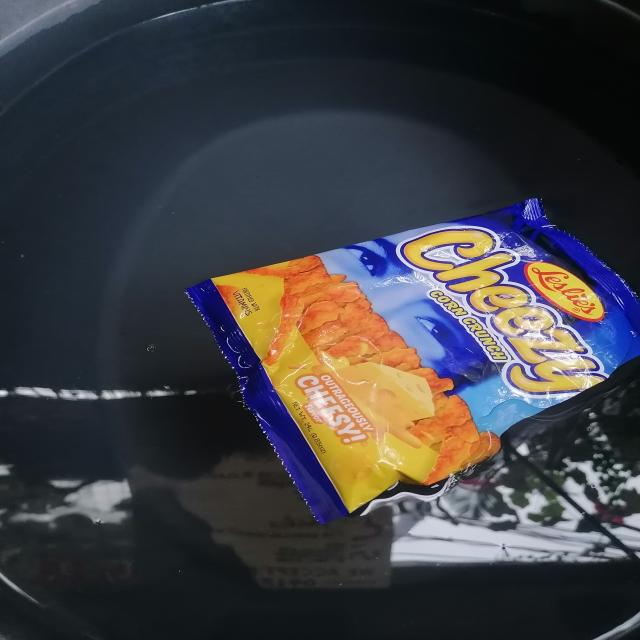Plastic Wrapper: (188, 199, 640, 523)
